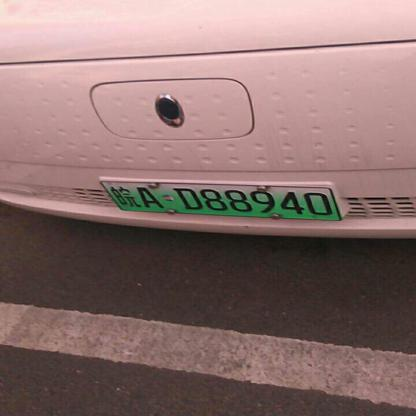lp: (100, 180, 340, 220)
